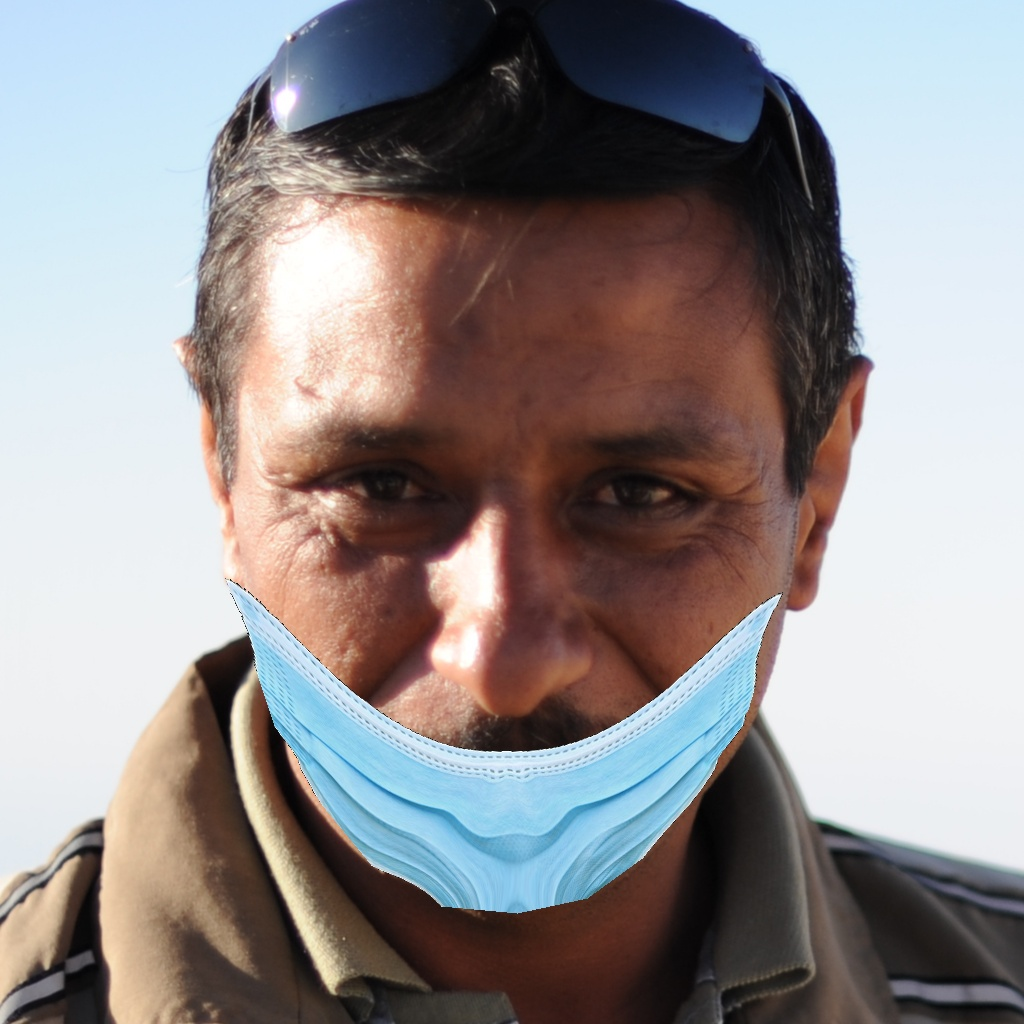mask_weared_incorrect: (198, 396, 821, 928)
